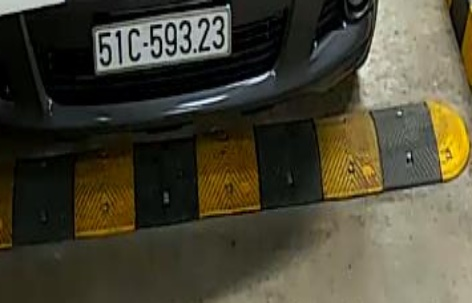plate: (92, 11, 242, 74)
